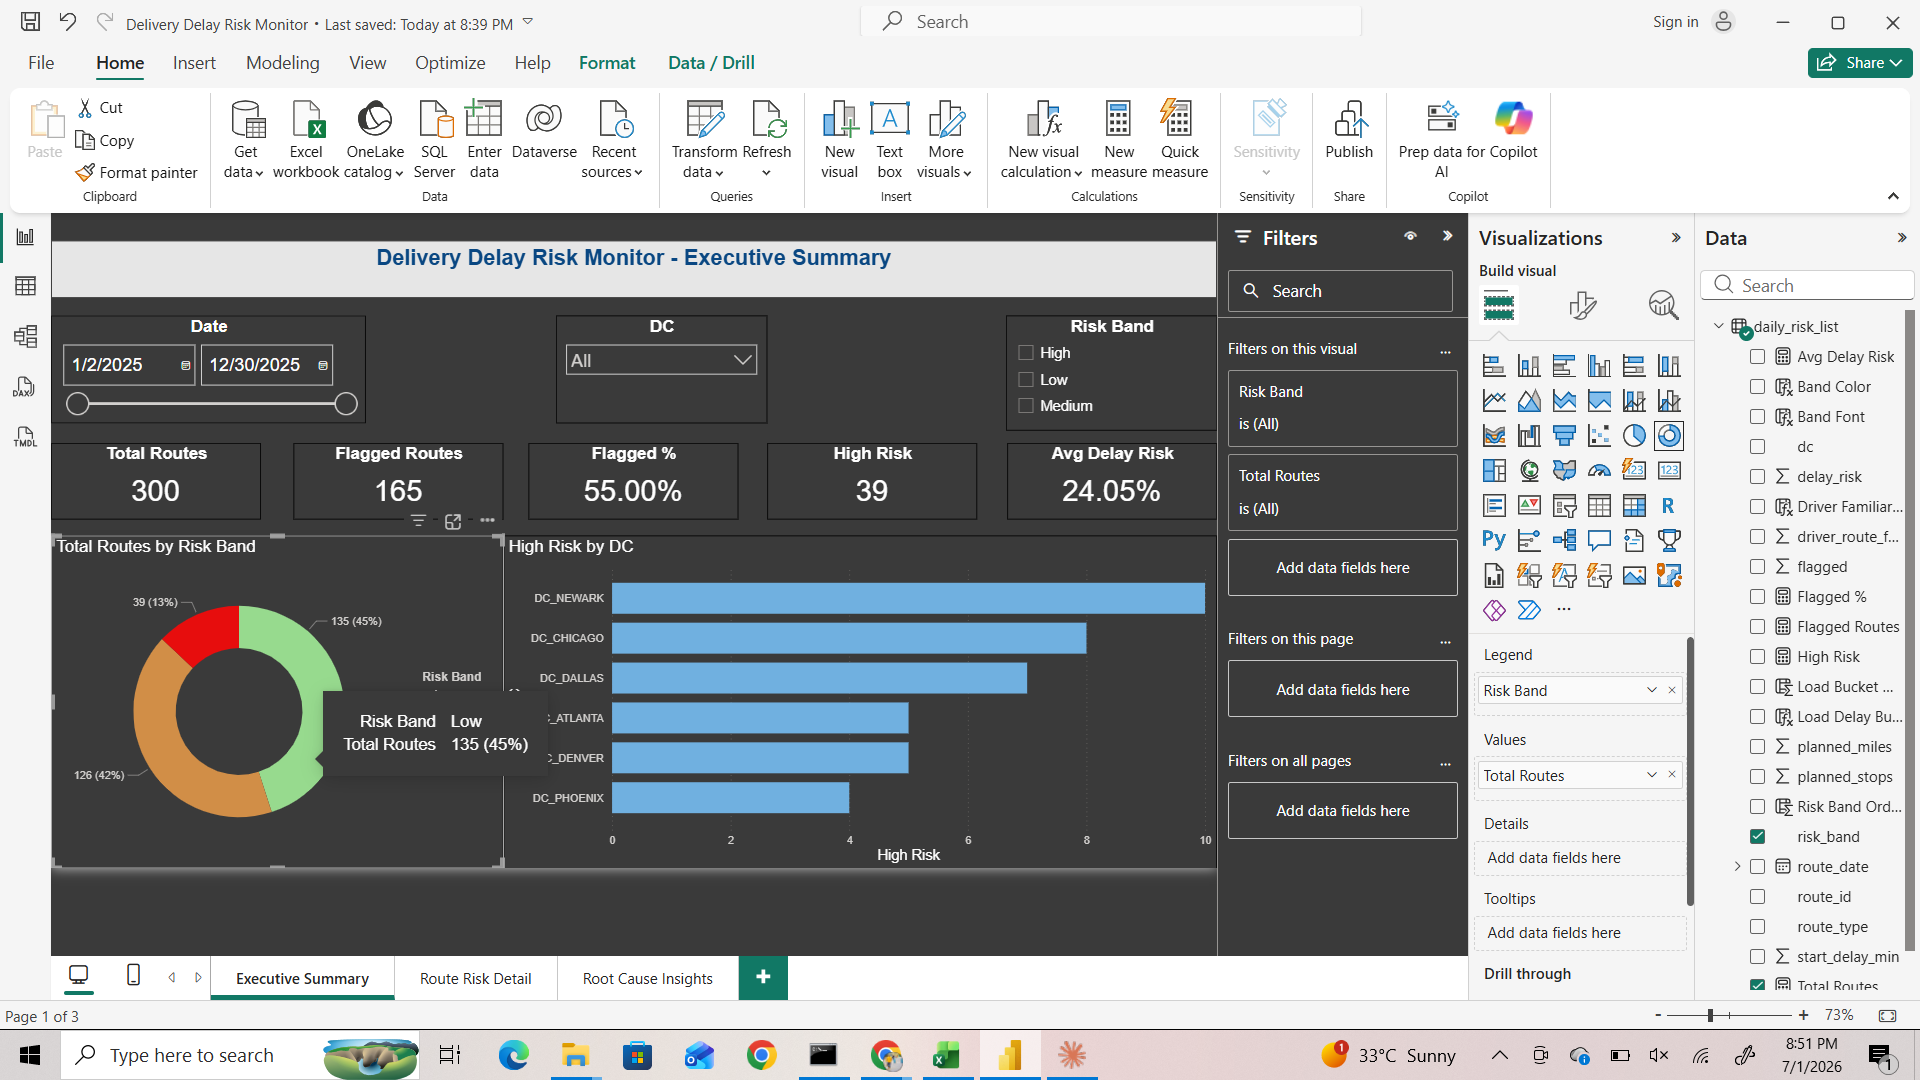

Layout of this report page (visuals, bound fields, positions):
{"tool":"powerbi","page":{"name":"Executive Summary","canvas":[1280,720],"ordinal":0},"visuals":[{"type":"card","title":"Total Routes","fields":{"Values":["daily_risk_list.Total Routes"]},"box":[0,252.5,230.5,83.7],"z":0},{"type":"card","title":"Flagged Routes","fields":{"Values":["daily_risk_list.Flagged Routes"]},"box":[266.2,252.5,230.5,83.7],"z":1000},{"type":"card","title":"High Risk","fields":{"Values":["daily_risk_list.High Risk"]},"box":[786.3,252.5,230.5,83.7],"z":2000},{"type":"card","title":"Flagged %","fields":{"Values":["daily_risk_list.Flagged %"]},"box":[524.2,252.5,230.5,83.7],"z":3000},{"type":"card","title":"Avg Delay Risk","fields":{"Values":["daily_risk_list.Avg Delay Risk"]},"box":[1049.7,252.5,230.5,83.7],"z":4000},{"type":"donutChart","title":"Total Routes by Risk Band","fields":{"Category":["daily_risk_list.risk_band"],"Y":["daily_risk_list.Total Routes"]},"box":[0,354,496.7,366.4],"z":5000},{"type":"clusteredBarChart","title":"High Risk by DC","fields":{"Category":["daily_risk_list.dc"],"Y":["daily_risk_list.High Risk"]},"box":[496.7,354,783.5,366.4],"z":6000},{"type":"slicer","title":"DC","fields":{"Values":["daily_risk_list.dc"]},"box":[554.4,112.5,231.9,118],"z":7000},{"type":"slicer","title":"Risk Band","fields":{"Values":["daily_risk_list.risk_band"]},"box":[1048.4,112.5,231.9,126.2],"z":8000},{"type":"slicer","title":"Date","fields":{"Values":["daily_risk_list.route_date"]},"box":[0,112.5,345.8,118],"z":9000},{"type":"textbox","box":[0,30.2,1280.3,63.1],"z":10000}]}

Visuals, with their boxes on the page's 1280x720 design canvas (x1, y1, x2, y2). These are canvas units, not pixel positions in the 1920x1080 screenshot, which may show the page scaled, cropped or inside an application window:
"Total Routes" card: (left=0, top=252, right=230, bottom=336)
"Flagged Routes" card: (left=266, top=252, right=497, bottom=336)
"High Risk" card: (left=786, top=252, right=1017, bottom=336)
"Flagged %" card: (left=524, top=252, right=755, bottom=336)
"Avg Delay Risk" card: (left=1050, top=252, right=1280, bottom=336)
"Total Routes by Risk Band" donutChart: (left=0, top=354, right=497, bottom=720)
"High Risk by DC" clusteredBarChart: (left=497, top=354, right=1280, bottom=720)
"DC" slicer: (left=554, top=112, right=786, bottom=230)
"Risk Band" slicer: (left=1048, top=112, right=1280, bottom=239)
"Date" slicer: (left=0, top=112, right=346, bottom=230)
textbox: (left=0, top=30, right=1280, bottom=93)
